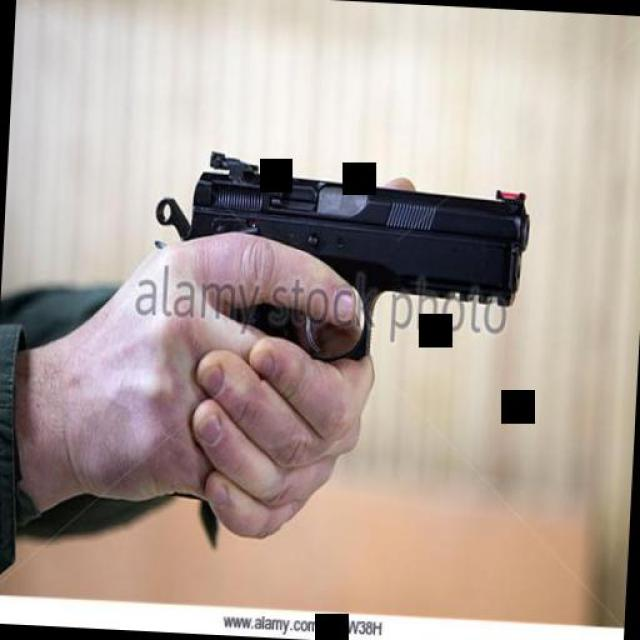gun: (149, 165, 536, 517)
